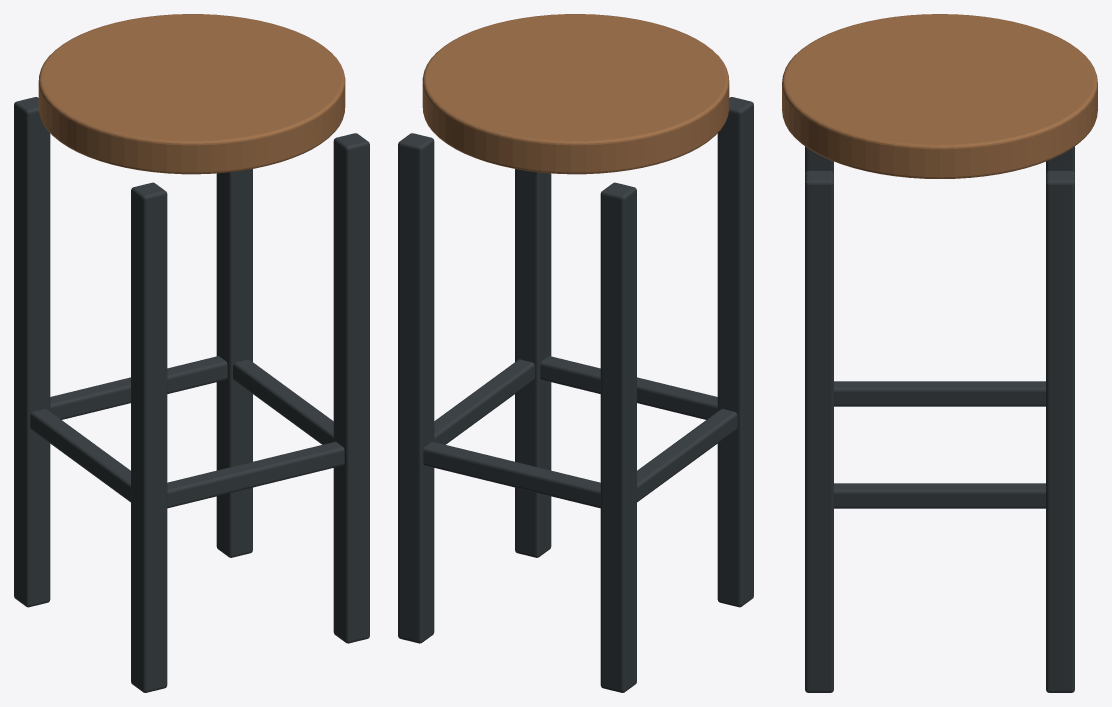
The model's file is cafe-bar-stool-01.glb.
3 views of the same model, side by side, from view 1: azimuth 30°, elevation 25°; view 2: azimuth 150°, elevation 25°; view 3: azimuth 270°, elevation 25° (orthographic). The views are drawn at different scales.
Visible parts, largest first — view 1: cafe-bar-stool-01; view 2: cafe-bar-stool-01; view 3: cafe-bar-stool-01.
Boxes of the visible parts, x1,y1,x2,y2 form: cafe-bar-stool-01: [14, 14, 369, 692]; cafe-bar-stool-01: [398, 14, 753, 692]; cafe-bar-stool-01: [782, 14, 1097, 692].
Bounding box in the file's own units: 0.38 × 0.74 × 0.38.
